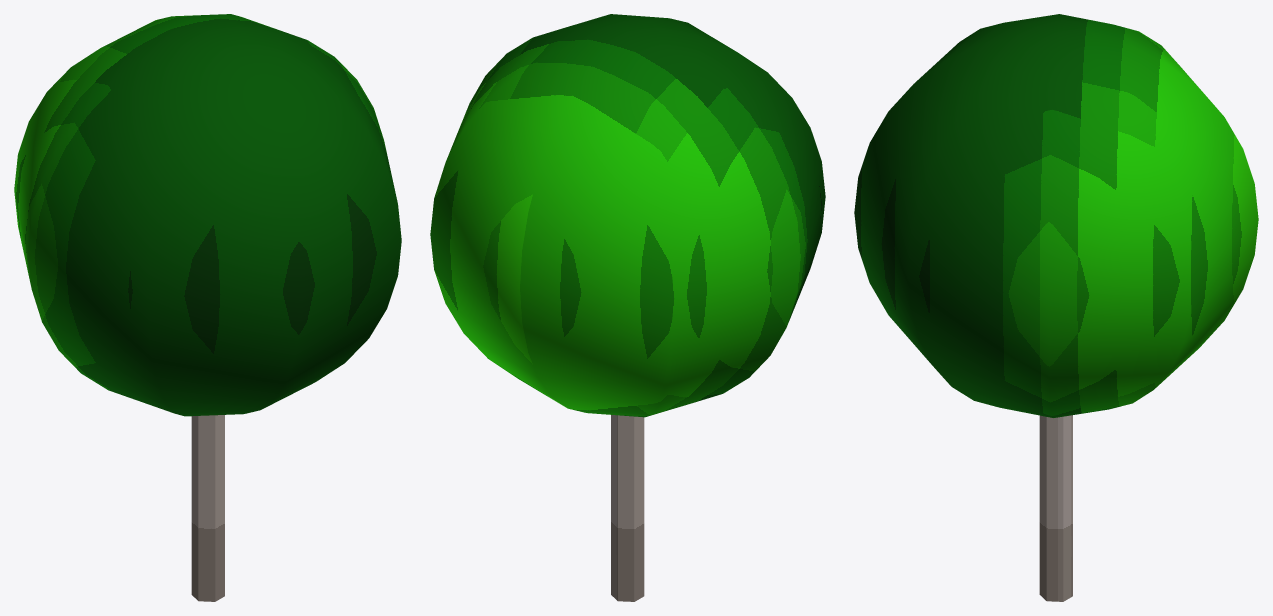
File: 06_planetx03.gltf
3 views of the same model, side by side, from view 1: azimuth 30°, elevation 25°; view 2: azimuth 150°, elevation 25°; view 3: azimuth 270°, elevation 25° (orthographic).
Parts seen in each view (by area): view 1: 06_planetx03; view 2: 06_planetx03; view 3: 06_planetx03.
Part boxes in pixels (x1,y1,x2,y2): 06_planetx03: (14, 14, 401, 601); 06_planetx03: (430, 14, 825, 601); 06_planetx03: (854, 14, 1258, 601).
Bounding box in the file's own units: 1.93 × 2.96 × 1.93.
Materials: 2 (2 with a texture image).
